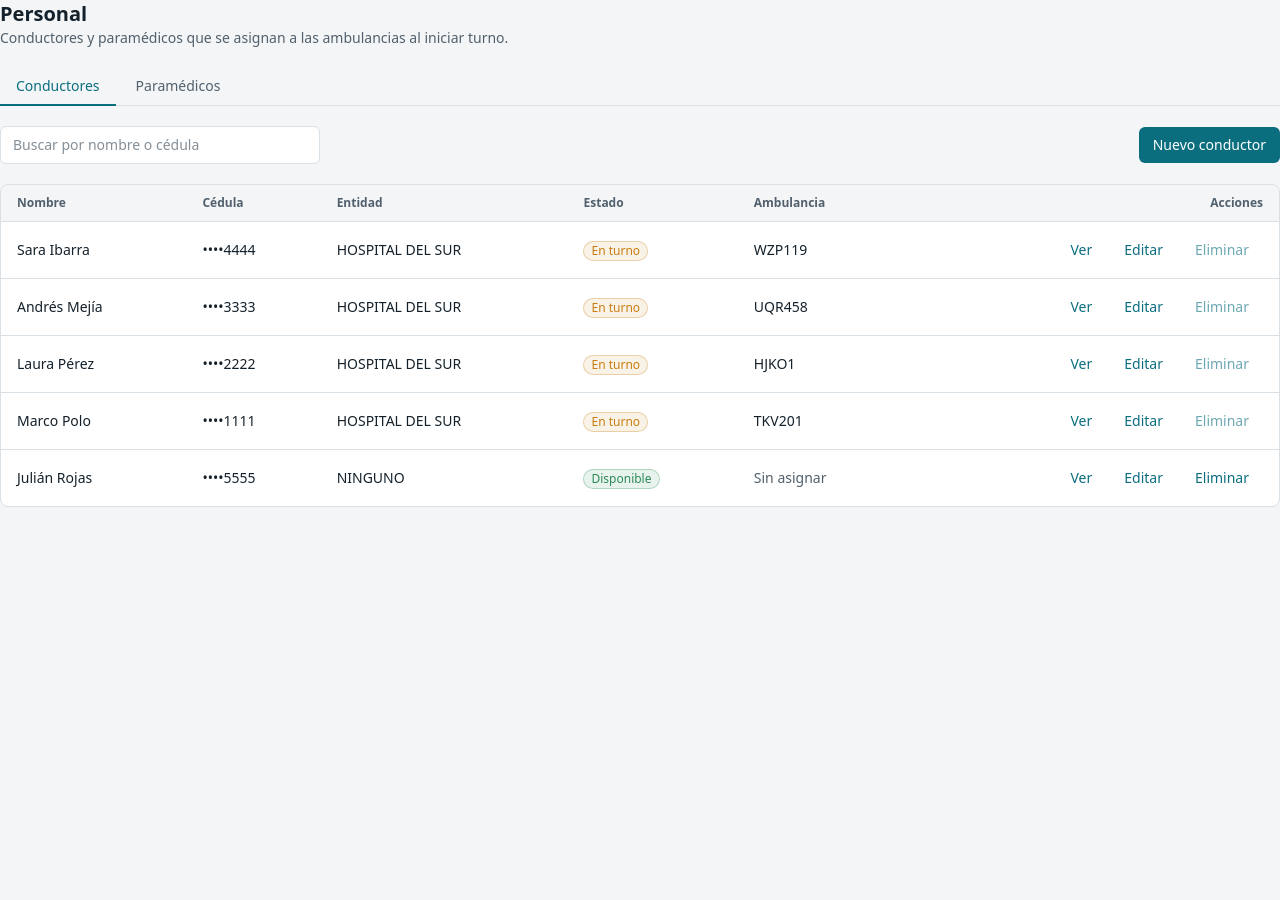
Test: StaffPage · conductores › valida los campos obligatorios
The image size is (1280, 900).
Check: the text "Sara Ibarra" is shown, box 17,240 -> 90,259
Click the button "Nuevo conductor".
click(1209, 145)  # box 1139,127 -> 1279,163
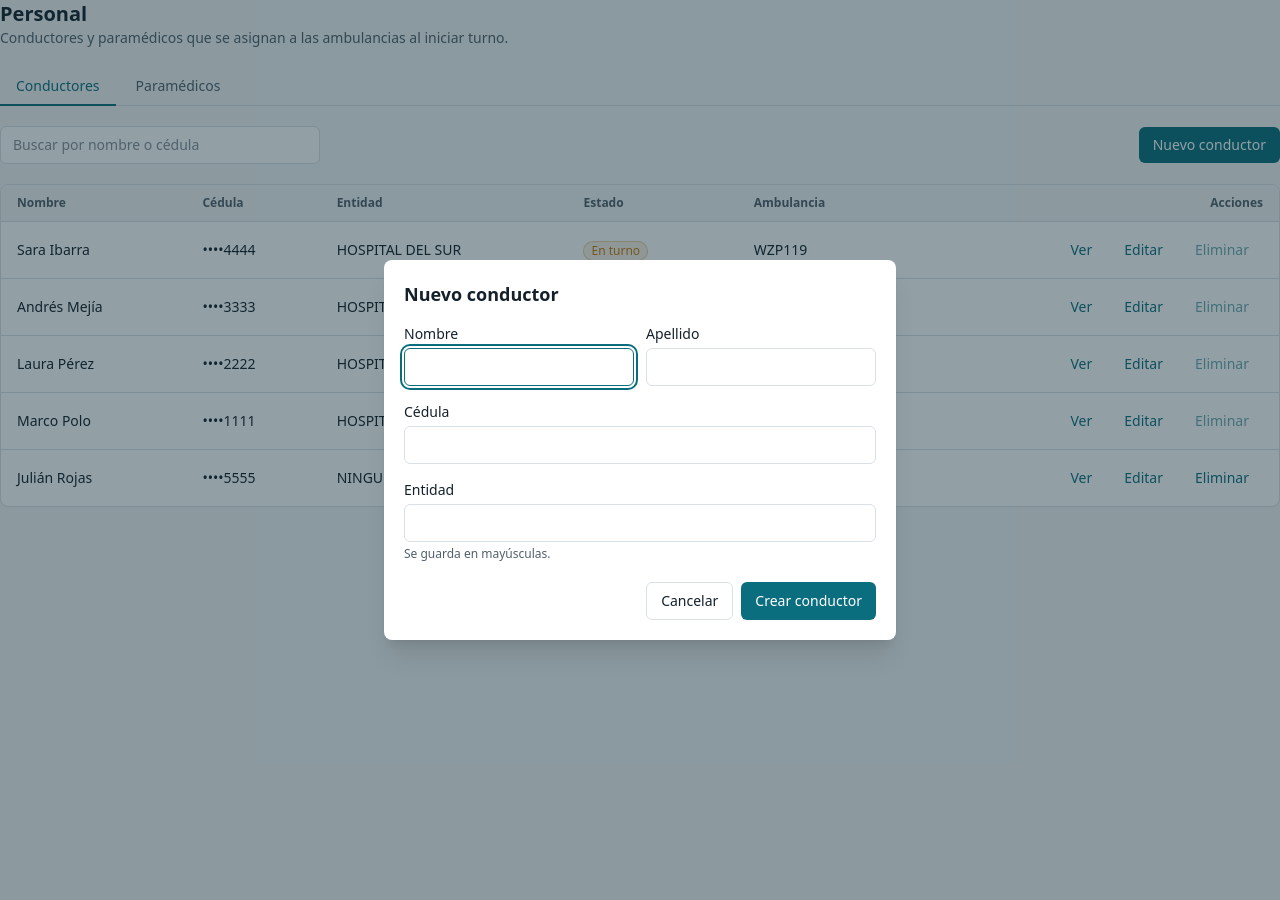
Click the button "Crear conductor".
click(809, 601)  # box 741,582 -> 876,620
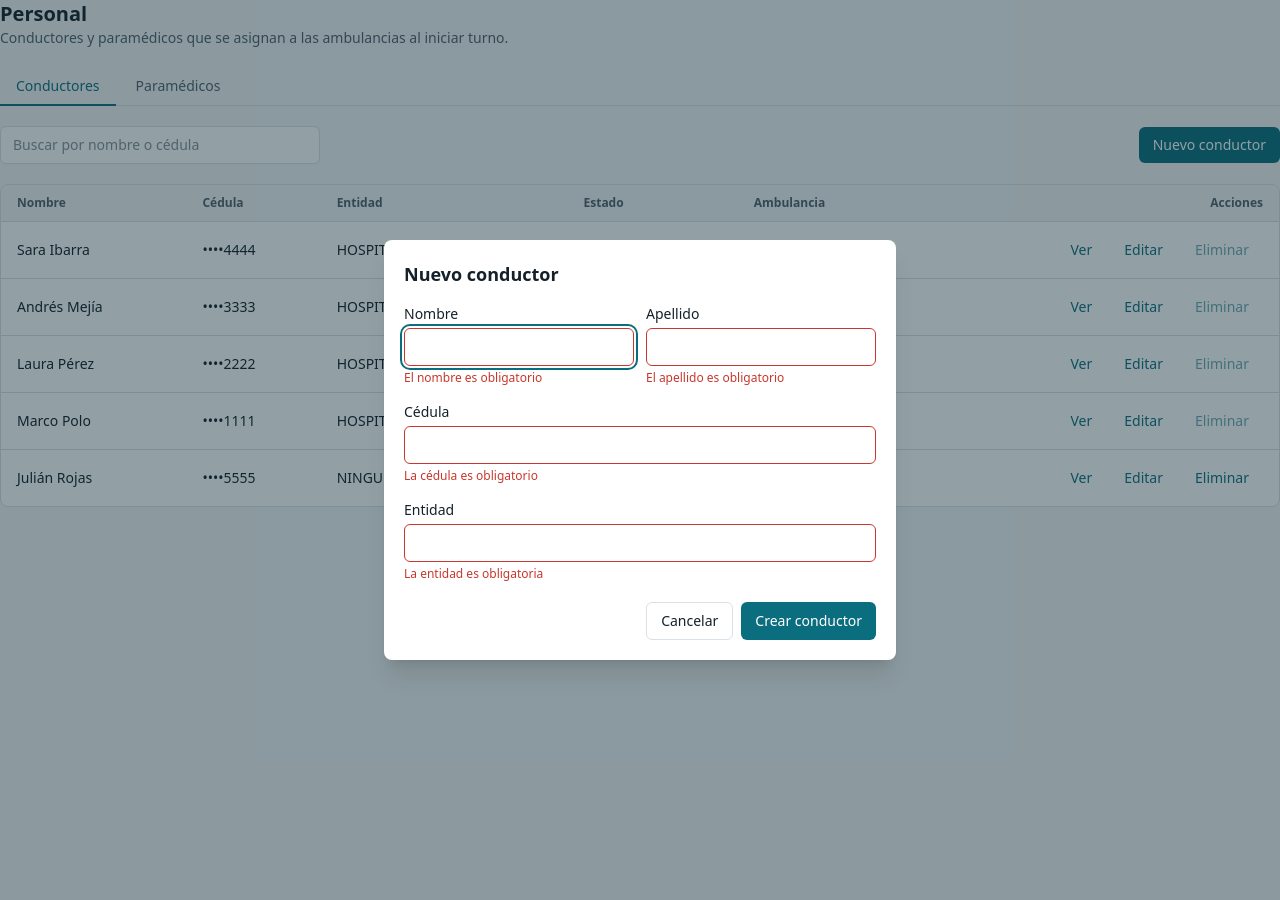
Check: the text "El nombre es obligatorio" is shown, box 404,369 -> 542,386
Check: the text "El apellido es obligatorio" is shown, box 646,369 -> 784,386
Check: the text "La cédula es obligatorio" is shown, box 404,467 -> 538,484
